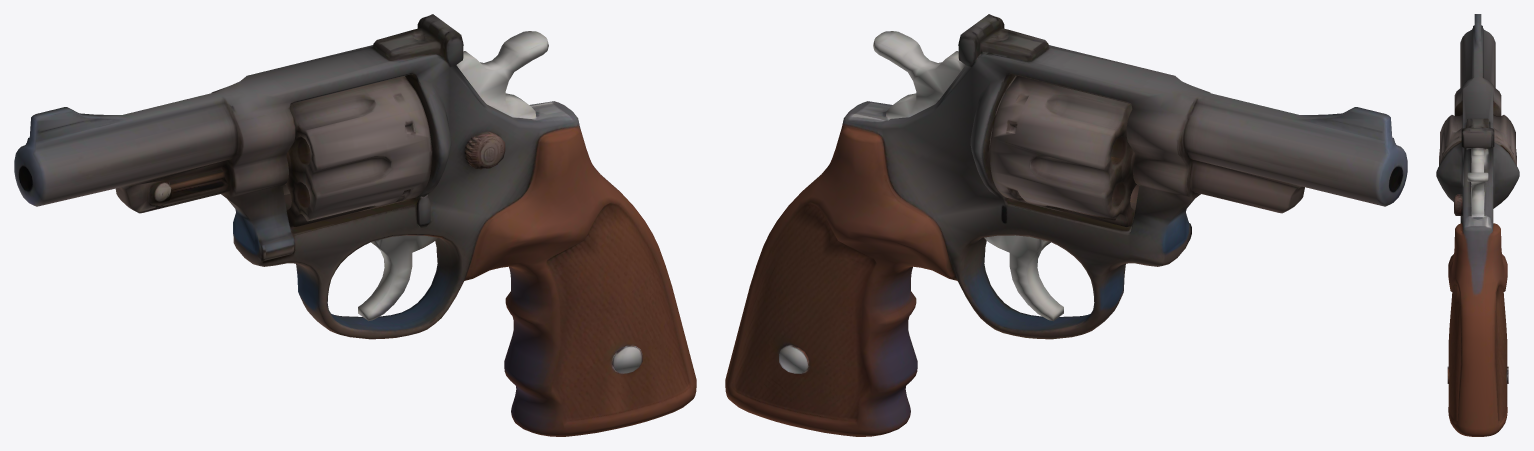
The model's file is Weapons__colt_45_revolver_71083f71_v4.cluster.glb.
The picture shows the model from 3 angles, left to right: view 1: azimuth 30°, elevation 25°; view 2: azimuth 150°, elevation 25°; view 3: azimuth 270°, elevation 25°; orthographic projection. The views are drawn at different scales.
Parts seen in each view (by area): view 1: material; view 2: material; view 3: material.
Part boxes in pixels (left/top/right/bottom): material: left=14, top=14, right=696, bottom=436; material: left=725, top=14, right=1407, bottom=436; material: left=1436, top=14, right=1519, bottom=436.
Bounding box in the file's own units: 1.9 × 1.19 × 0.3652.
Materials: 1 (1 with a texture image).
